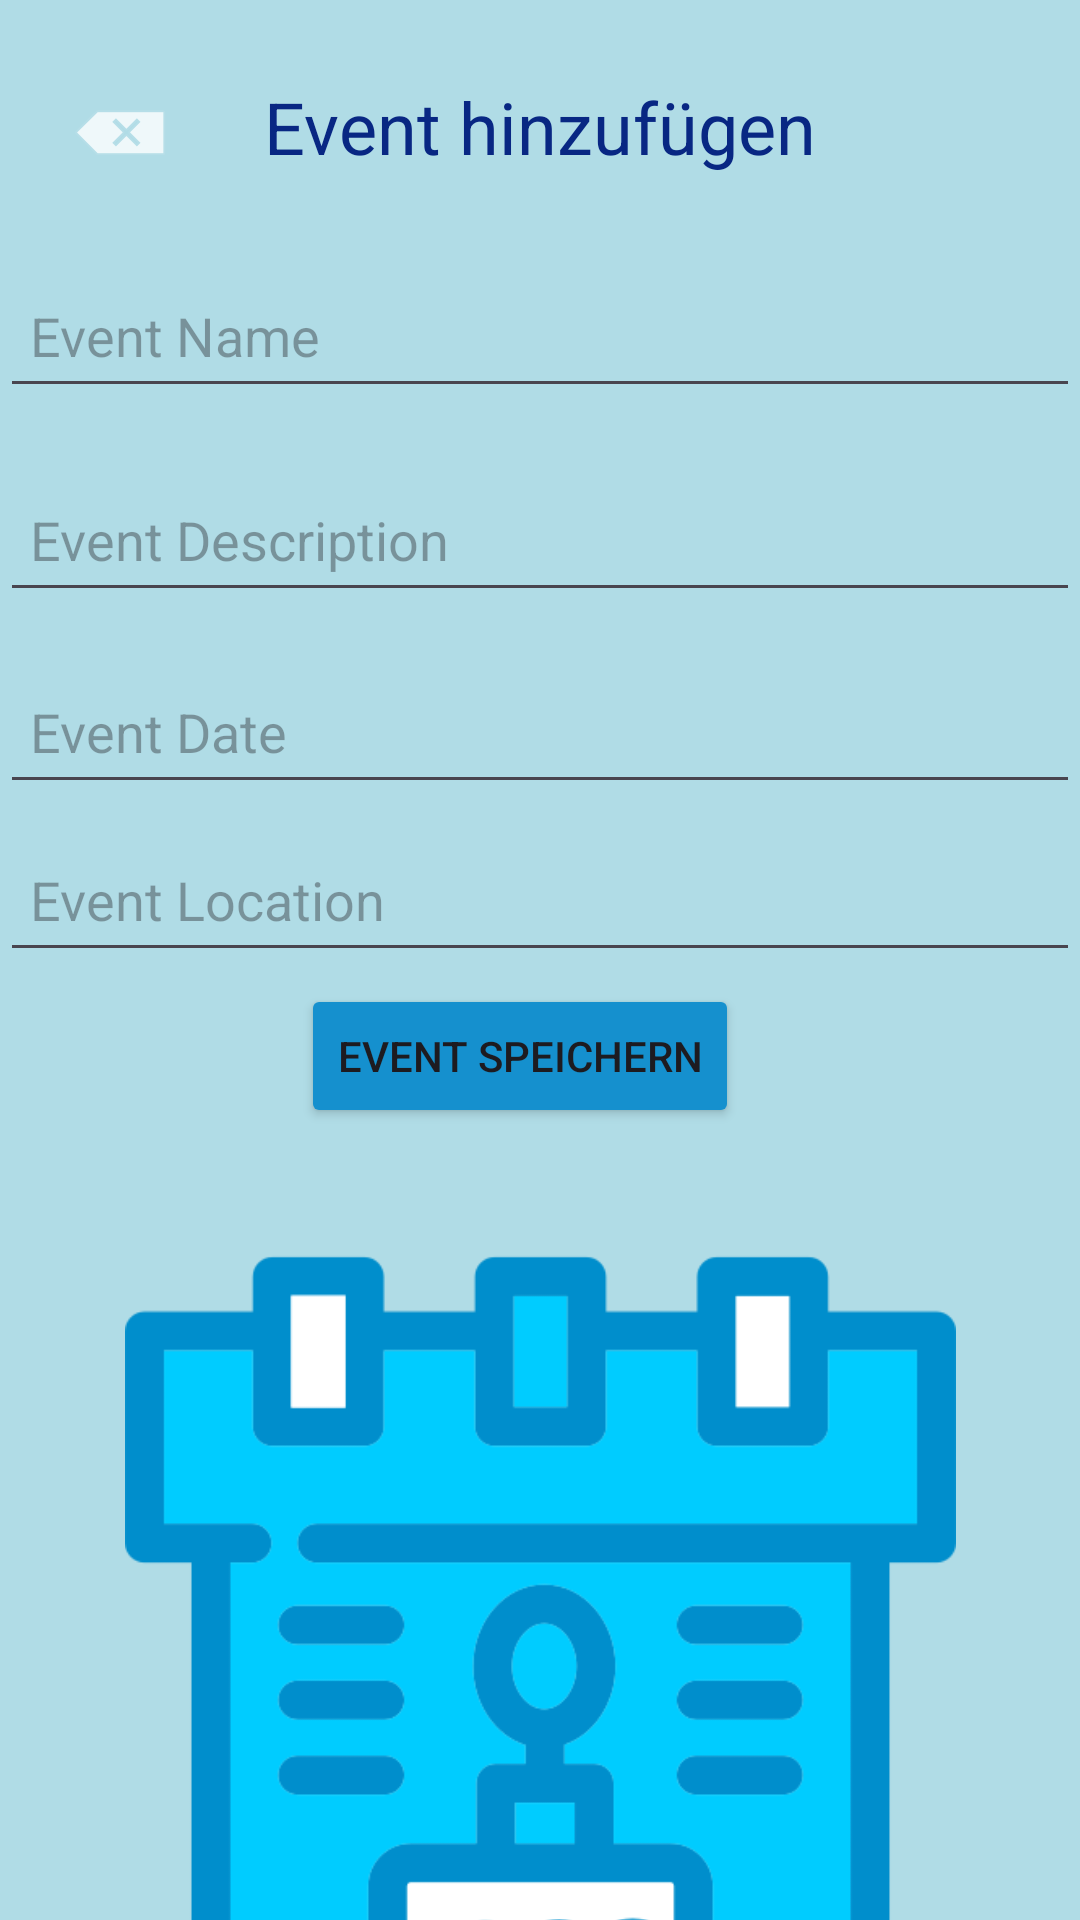

Locate icon controls on the screen. Image size 1080x1920, boxes as (x1, y1, x2, y2).
Back: (77, 112, 164, 153)
